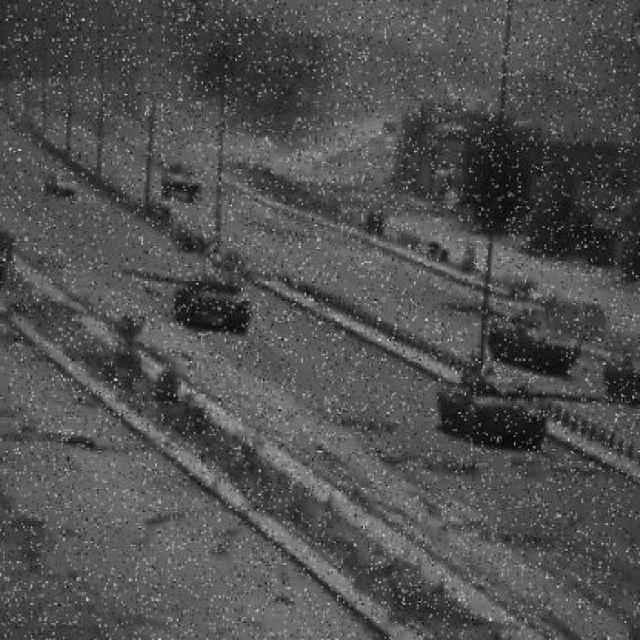Tank: (438, 356, 619, 452), (123, 261, 254, 335), (492, 303, 586, 374), (156, 155, 209, 207), (602, 336, 640, 407)
